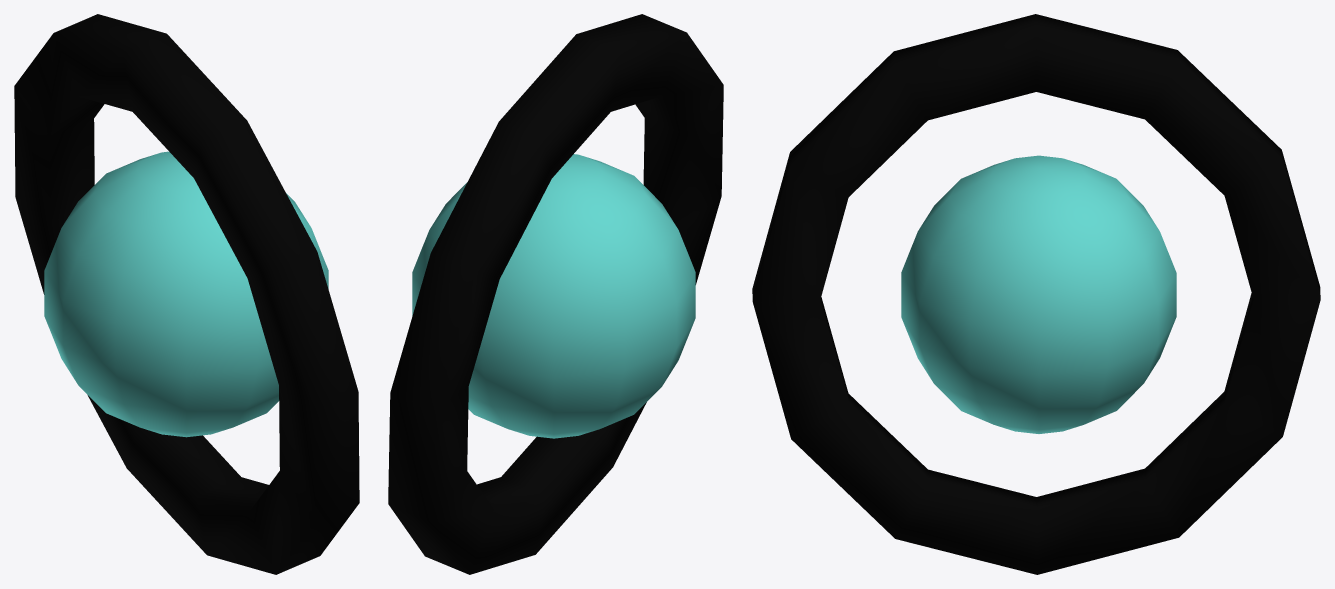
The model's file is enemy2.fbx.
3 views of the same model, side by side, from view 1: azimuth 30°, elevation 25°; view 2: azimuth 150°, elevation 25°; view 3: azimuth 270°, elevation 25° (orthographic). The views are drawn at different scales.
Visible parts, largest first — view 1: Cylinder, Sphere; view 2: Cylinder, Sphere; view 3: Cylinder, Sphere.
Part boxes in pixels (x1,y1,x2,y2): Cylinder: (14, 14, 359, 574); Sphere: (44, 151, 328, 437); Cylinder: (388, 14, 723, 574); Sphere: (412, 154, 695, 438); Cylinder: (752, 14, 1320, 574); Sphere: (901, 155, 1176, 433).
Size of the model in its own units: 1.97 by 4.06 by 4.06.
